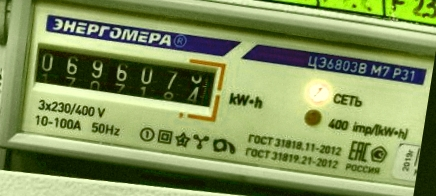0: (138, 62, 156, 86), (38, 50, 55, 73)
4: (185, 83, 201, 105)
6: (63, 53, 80, 76), (113, 60, 130, 82)
7: (162, 68, 180, 91)
9: (88, 57, 104, 79)
screen: (18, 30, 231, 120)
